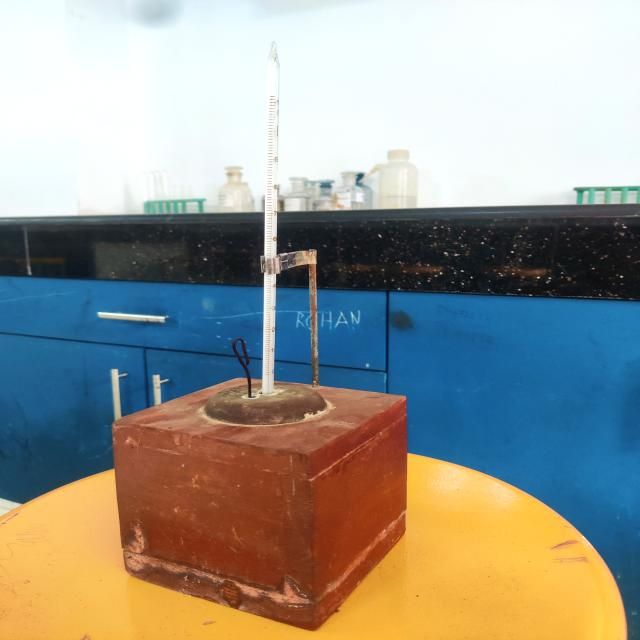Calorimeter: (87, 31, 464, 634)
